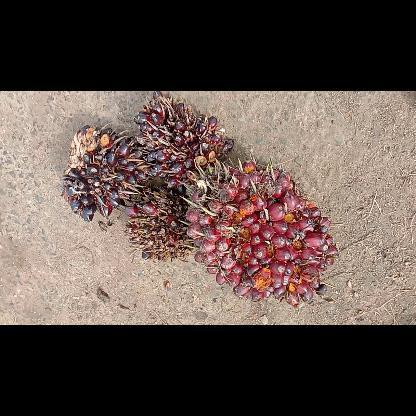TBS abnormal: (134, 91, 234, 190), (60, 124, 150, 222), (126, 187, 190, 259)
TBS masak: (184, 161, 338, 309)
